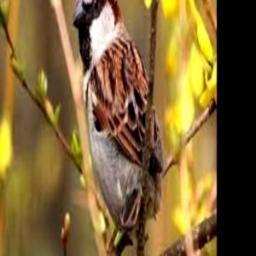Sparrow: (72, 0, 163, 256)
